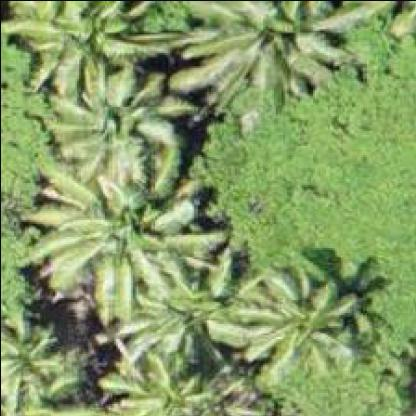coconut tree: (1, 1, 402, 415)
